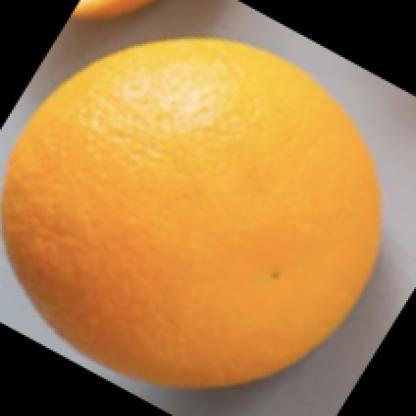fresh: (4, 41, 378, 387)
